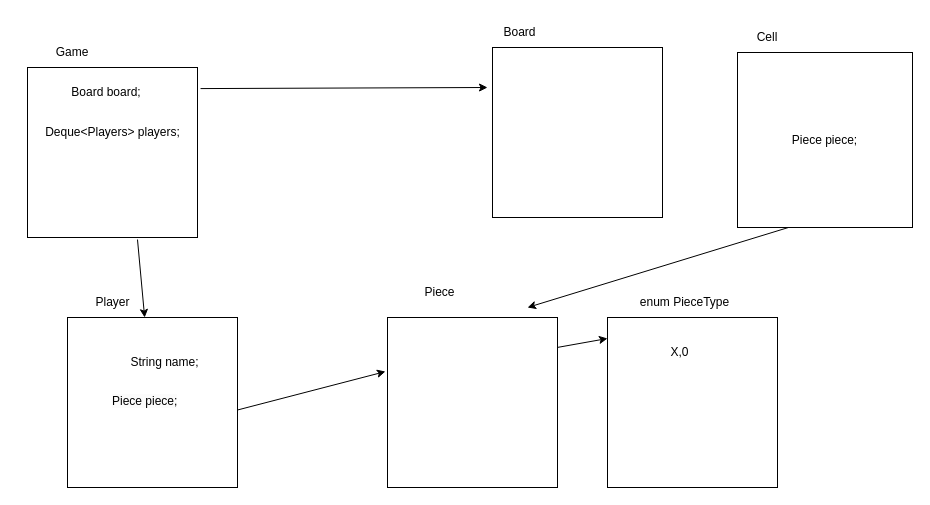
Some shapes in this 930 by 505 pixel diagram are drawn without their labels. Here are the shapes that lost their labels. From the top down, the centre of each, then its label:
point (577, 132): Cell [][]cells;
point (472, 402): PieceType type;
